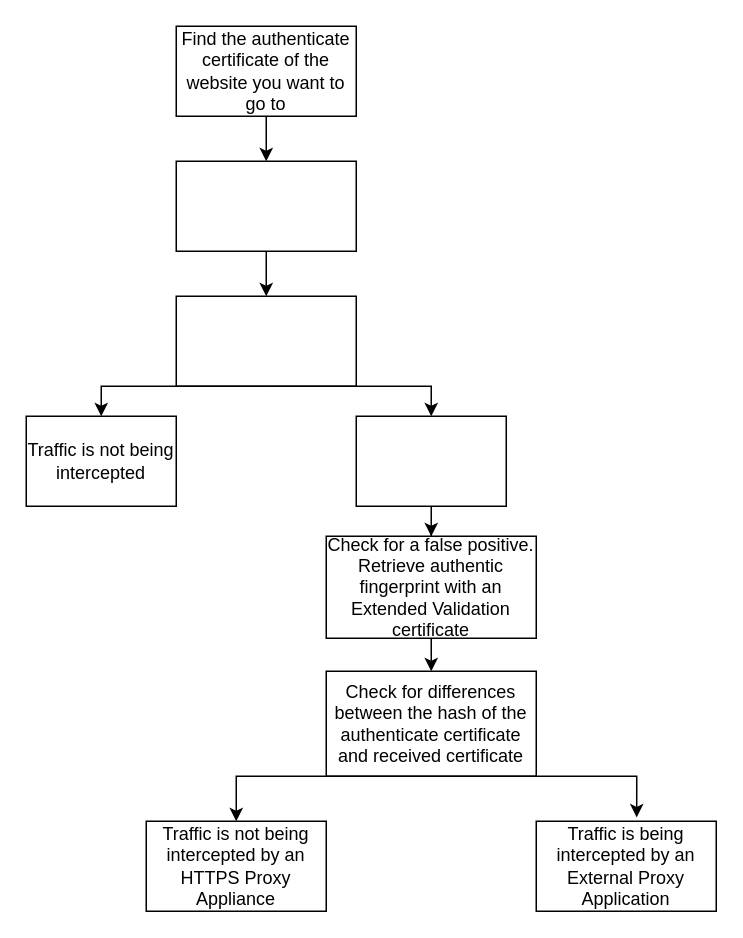
This 743x938 diagram has some shape labels left out. The shapes that lost their labels are listed below. From the top down, each one's centre as x and y in pixels, then its label:
At pixel 265 205: "Visit the website and obtain the certificate".
At pixel 265 340: "Check for differences between the fingerprint and the authentic certificate".
At pixel 430 460: "Traffic is being intercepted".
